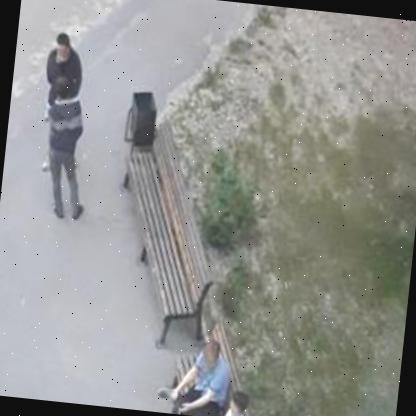person: (32, 72, 109, 228), (162, 333, 244, 416)
